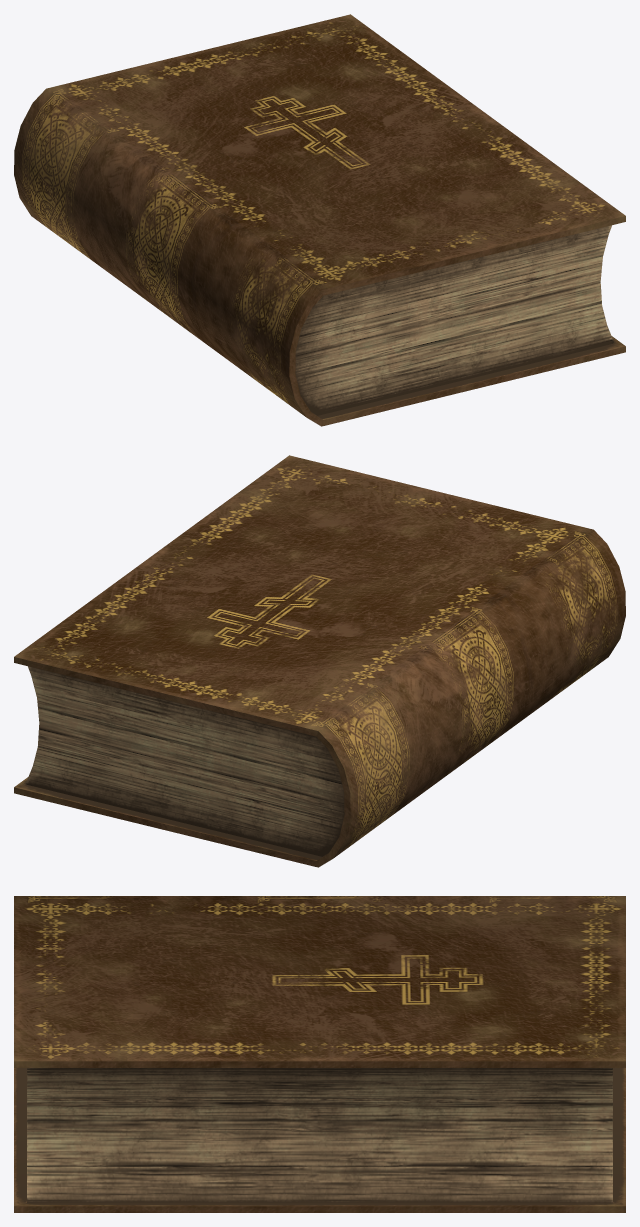
File: book_free.glb
3 renders of one model, top to bottom at view 1: azimuth 30°, elevation 25°; view 2: azimuth 150°, elevation 25°; view 3: azimuth 270°, elevation 25°, orthographic. The views are drawn at different scales.
Parts seen in each view (by area): view 1: Bible_low; view 2: Bible_low; view 3: Bible_low.
Boxes of the visible parts, x1,y1,x2,y2 form: Bible_low: (14, 14, 625, 426); Bible_low: (14, 455, 625, 867); Bible_low: (14, 896, 625, 1212).
Bounding box in the file's own units: 0.1509 × 0.0584 × 0.2138.
Materials: 1 (1 with a texture image).
